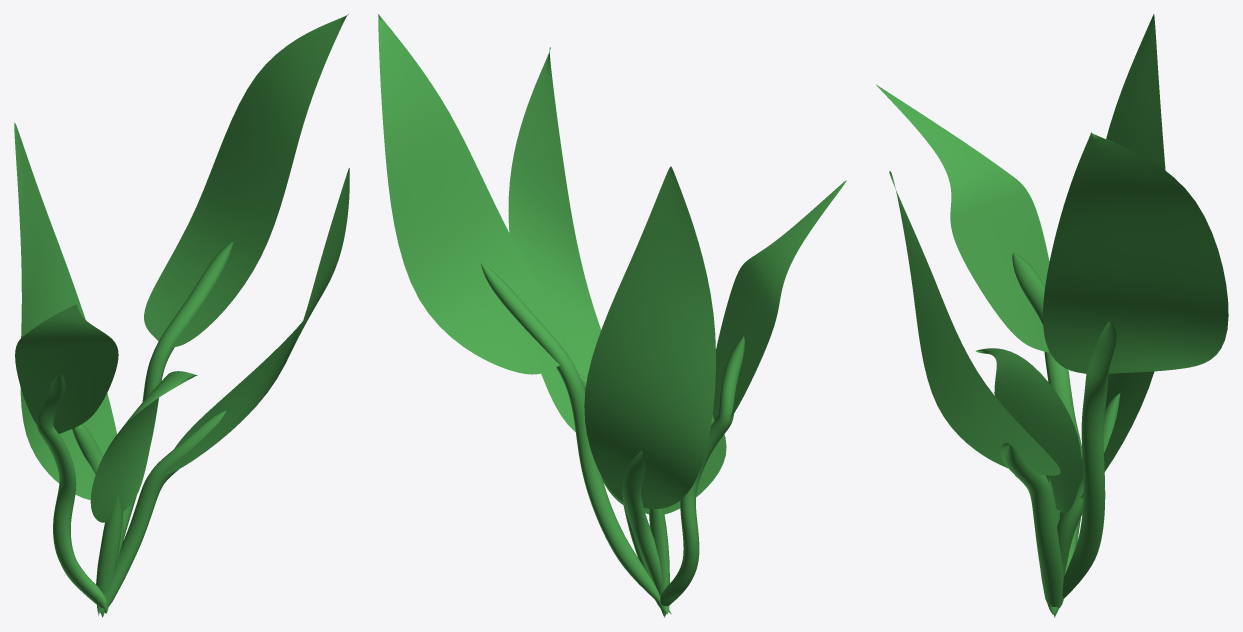
File: plant002.glb
3 views of the same model, side by side, from view 1: azimuth 30°, elevation 25°; view 2: azimuth 150°, elevation 25°; view 3: azimuth 270°, elevation 25° (orthographic). The views are drawn at different scales.
Visible parts, largest first — view 1: s.0057, s.0022, s.0055, s.0059, s.0024, s.0062, s.0063, s.0067, s.0048, s.0050; view 2: s.0022, s.0057, s.0059, s.0055, s.0067, s.0062, s.0050, s.0048, s.0024; view 3: s.0057, s.0055, s.0059, s.0022, s.0024, s.0067, s.0063, s.0062, s.0050.
Part boxes in pixels (box(x1,y1,x2,y2)): s.0057: box(144, 14, 348, 347); s.0022: box(14, 122, 116, 499); s.0055: box(15, 305, 118, 433); s.0059: box(162, 168, 349, 474); s.0024: box(90, 371, 197, 522); s.0062: box(36, 373, 108, 613); s.0063: box(97, 410, 226, 612); s.0067: box(98, 241, 233, 615); s.0048: box(96, 494, 122, 615); s.0050: box(72, 424, 123, 617); s.0022: box(584, 166, 715, 508); s.0057: box(378, 14, 568, 374); s.0059: box(508, 47, 600, 431); s.0055: box(712, 180, 846, 420); s.0067: box(481, 262, 671, 614); s.0062: box(660, 336, 744, 606); s.0050: box(622, 450, 665, 617); s.0048: box(649, 508, 669, 615); s.0024: box(602, 415, 726, 514); s.0057: box(1043, 132, 1228, 373); s.0055: box(876, 84, 1049, 352); s.0059: box(889, 171, 1060, 475); s.0022: box(1080, 14, 1165, 498); s.0024: box(975, 348, 1081, 513); s.0067: box(1062, 321, 1116, 598); s.0063: box(1000, 443, 1063, 608); s.0062: box(1012, 252, 1082, 614); s.0050: box(1053, 393, 1120, 617).
Size of the model in its own units: 0.1517 by 0.2116 by 0.1059.
